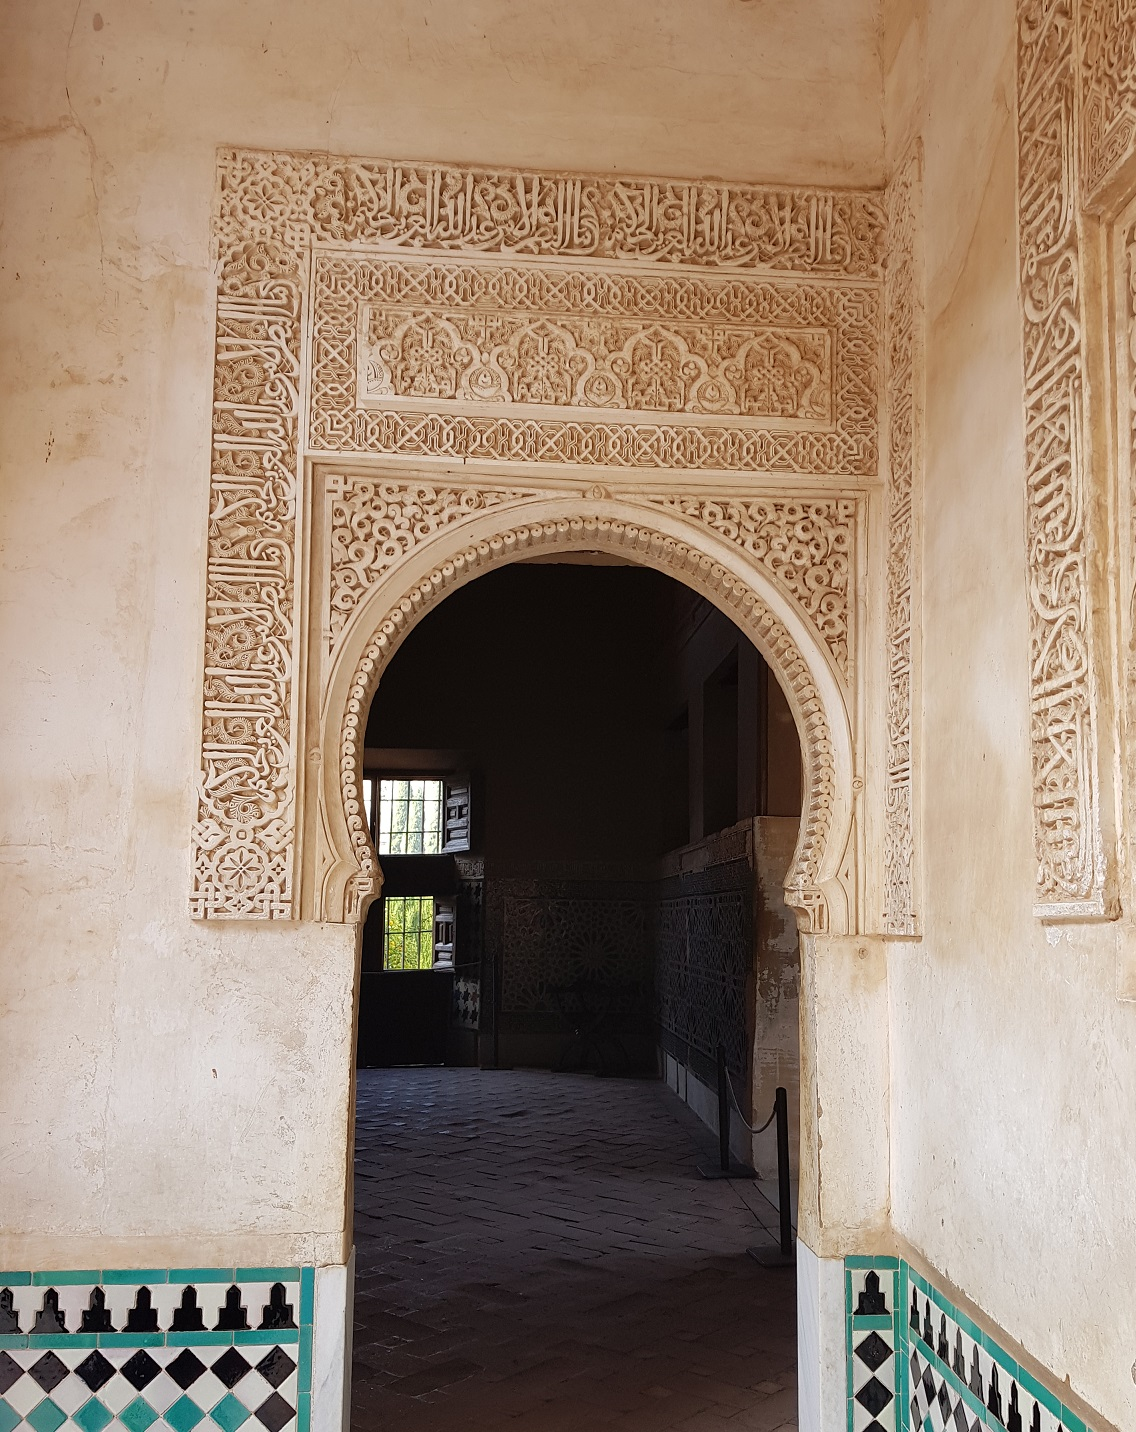arco-herradura: (314, 479, 845, 972)
